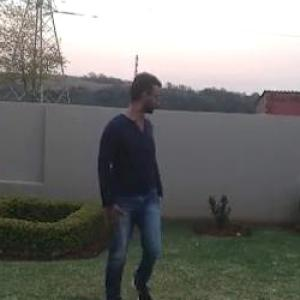follow: (92, 67, 166, 299)
